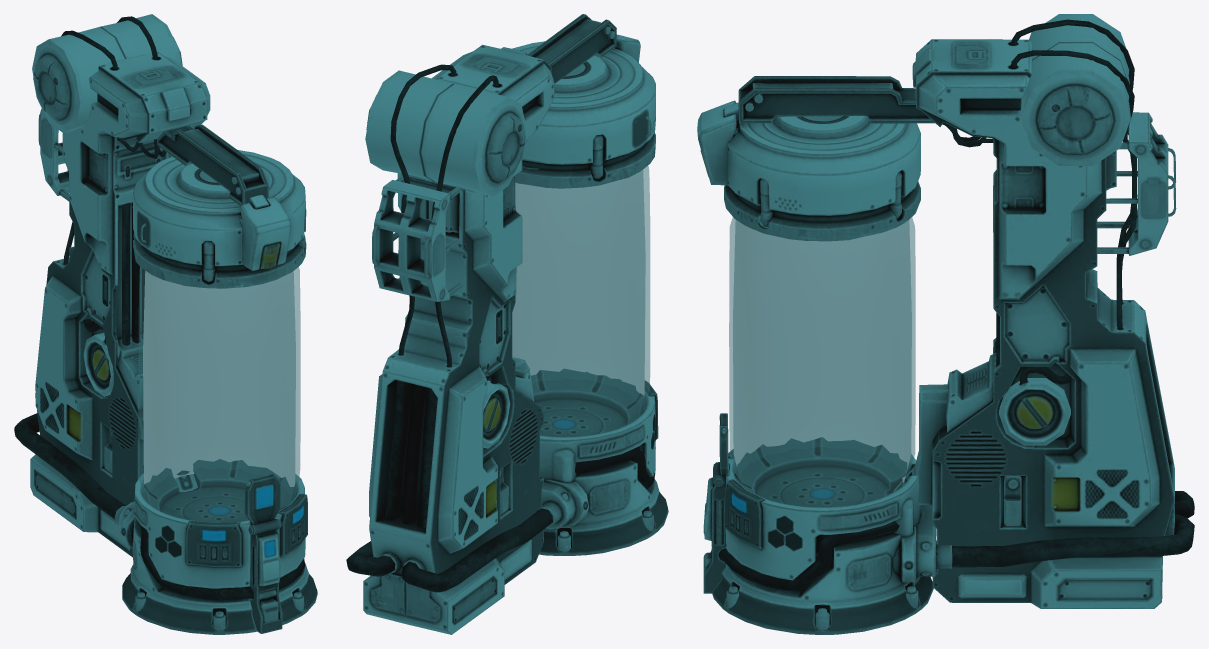
File: capsule-opt.glb
3 views of the same model, side by side, from view 1: azimuth 30°, elevation 25°; view 2: azimuth 150°, elevation 25°; view 3: azimuth 270°, elevation 25° (orthographic). The views are drawn at different scales.
Parts seen in each view (by area): view 1: Object_2; view 2: Object_2; view 3: Object_2.
Boxes of the visible parts, x1,y1,x2,y2 form: Object_2: (14, 14, 317, 634); Object_2: (346, 14, 668, 634); Object_2: (697, 14, 1194, 634).
Bounding box in the file's own units: 18.12 × 49.58 × 40.42.
1 material, 1 textured.
